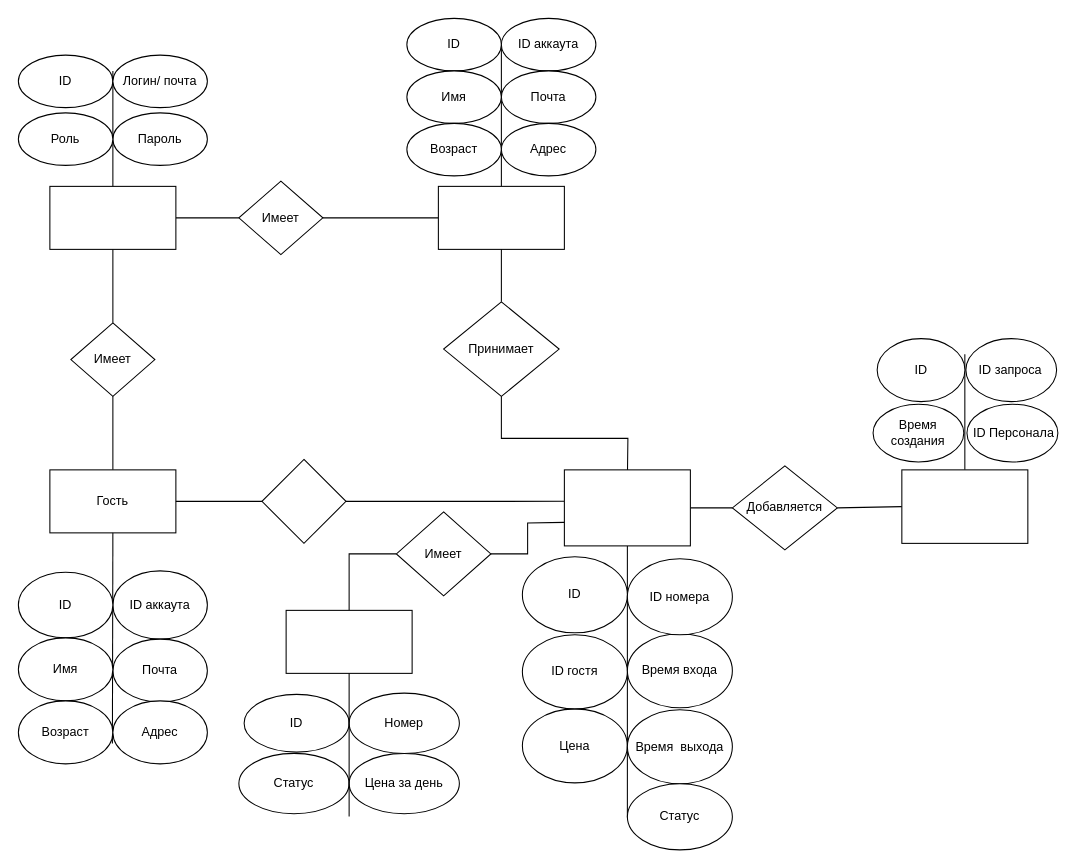
This 1076x868 diagram has some shape labels left out. Each missing label, with the centre of its shape:
"Cоздает" goes at point 303,500.
"Аккаунт" goes at point 112,217.
"Запрос на бронирование" goes at point 626,507.
"История бронирования" goes at point 964,506.
"Номер в отеле" goes at point 348,641.
"Персонал" goes at point 500,217.
